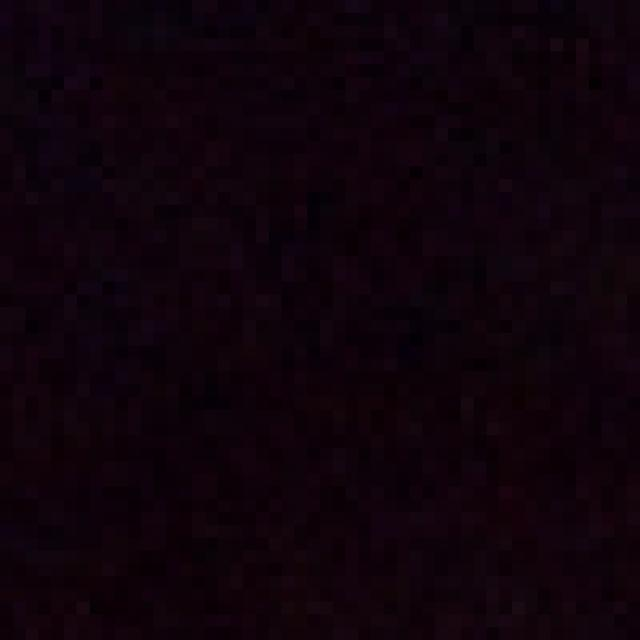no_fire: (34, 75, 638, 640)
